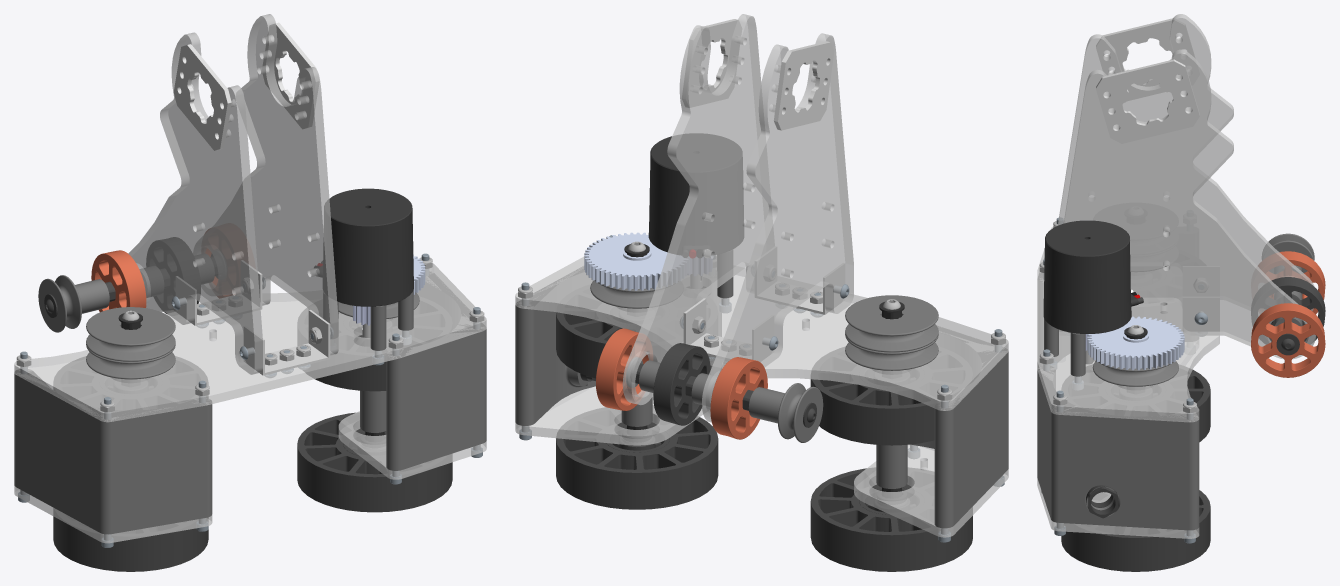
3 renders of one model, left to right at view 1: azimuth 30°, elevation 25°; view 2: azimuth 150°, elevation 25°; view 3: azimuth 270°, elevation 25°, orthographic. The views are drawn at different scales.
Parts seen in each view (by area): view 1: Wrist Attachment Plate (×2), Spacer No IR, Main Plate, 4" OD 1/2" Hex Bore Compliant Wheel 35A (am-3480) (×2), Spacer IR, 4" OD 1/2" Hex Bore Compliant Wheel 60A (am-3480) (×2), NEO Brushless Motor V1.1, MAX Pattern Plate (×2), Polycord Pulley (×2), Support Plate (×2), C Channel Thing (×2), 2" OD 1/2" Hex Bore Compliant Wheel 40A (am-3462) (+5 smaller); view 2: Wrist Attachment Plate (×2), 4" OD 1/2" Hex Bore Compliant Wheel 60A (am-3480) (×2), Main Plate, 4" OD 1/2" Hex Bore Compliant Wheel 35A (am-3480) (×2), Spacer No IR, NEO Brushless Motor V1.1, Support Plate (×2), Polycord Pulley (×3), Spacer IR, MAX Pattern Plate (×2), 2" OD 1/2" Hex Bore Compliant Wheel 40A (am-3462) (×2), 50t 20dp Aluminum 1/2" Hex Bore Gear (217-3572) (+8 smaller); view 3: Wrist Attachment Plate (×2), Spacer IR, 4" OD 1/2" Hex Bore Compliant Wheel 35A (am-3480) (×2), Main Plate, NEO Brushless Motor V1.1, MAX Pattern Plate (×2), 2" OD 1/2" Hex Bore Compliant Wheel 40A (am-3462) (×2), 50t 20dp Aluminum 1/2" Hex Bore Gear (217-3572), Support Plate (×2), C Channel Thing, 2" OD 1/2" Hex Bore Compliant Wheel 60A (am-3462), Polycord Pulley (+7 smaller).
Boxes of the visible parts, x1,y1,x2,y2 form: Wrist Attachment Plate (×2): (128, 14, 338, 374); Spacer No IR: (14, 369, 212, 534); Main Plate: (14, 263, 486, 422); 4" OD 1/2" Hex Bore Compliant Wheel 35A (am-3480) (×2): (297, 297, 452, 512); Spacer IR: (386, 271, 486, 470); 4" OD 1/2" Hex Bore Compliant Wheel 60A (am-3480) (×2): (53, 356, 208, 571); NEO Brushless Motor V1.1: (310, 188, 413, 338); MAX Pattern Plate (×2): (173, 22, 319, 150); Polycord Pulley (×2): (86, 307, 175, 379); Support Plate (×2): (14, 411, 486, 543); C Channel Thing (×2): (175, 260, 330, 375); 2" OD 1/2" Hex Bore Compliant Wheel 40A (am-3462): (91, 250, 146, 312); Wrist Attachment Plate (×2): (622, 14, 853, 422); 4" OD 1/2" Hex Bore Compliant Wheel 60A (am-3480) (×2): (810, 347, 972, 571); Main Plate: (515, 256, 1008, 410); 4" OD 1/2" Hex Bore Compliant Wheel 35A (am-3480) (×2): (556, 284, 718, 509); Spacer No IR: (911, 325, 1008, 528); NEO Brushless Motor V1.1: (648, 133, 743, 288); Support Plate (×2): (515, 386, 1008, 537); Polycord Pulley (×3): (590, 280, 938, 370); Spacer IR: (515, 266, 721, 425); MAX Pattern Plate (×2): (682, 19, 834, 130); 2" OD 1/2" Hex Bore Compliant Wheel 40A (am-3462) (×2): (596, 328, 767, 439); 50t 20dp Aluminum 1/2" Hex Bore Gear (217-3572): (584, 232, 689, 290); Wrist Attachment Plate (×2): (1057, 14, 1315, 359); Spacer IR: (1037, 366, 1199, 530); 4" OD 1/2" Hex Bore Compliant Wheel 35A (am-3480) (×2): (1061, 365, 1210, 571); Main Plate: (1037, 227, 1219, 422); NEO Brushless Motor V1.1: (1043, 220, 1143, 364); MAX Pattern Plate (×2): (1096, 18, 1199, 143); 2" OD 1/2" Hex Bore Compliant Wheel 40A (am-3462) (×2): (1251, 251, 1325, 377); 50t 20dp Aluminum 1/2" Hex Bore Gear (217-3572): (1087, 316, 1184, 370); Support Plate (×2): (1037, 340, 1199, 538); C Channel Thing: (1182, 266, 1219, 331); 2" OD 1/2" Hex Bore Compliant Wheel 60A (am-3462): (1251, 277, 1325, 344); Polycord Pulley: (1092, 360, 1178, 386).
Size of the model in its own units: 0.3156 by 0.3414 by 0.1958.
